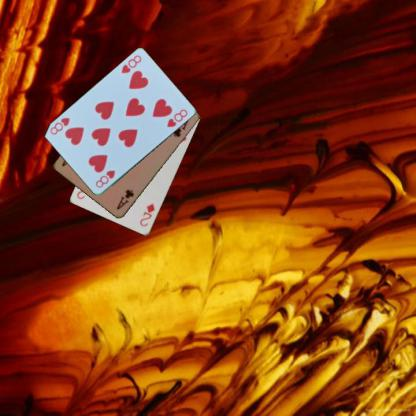2d: (137, 201, 156, 228)
8h: (93, 167, 117, 190), (118, 53, 143, 75)
Ac: (113, 187, 135, 212)
